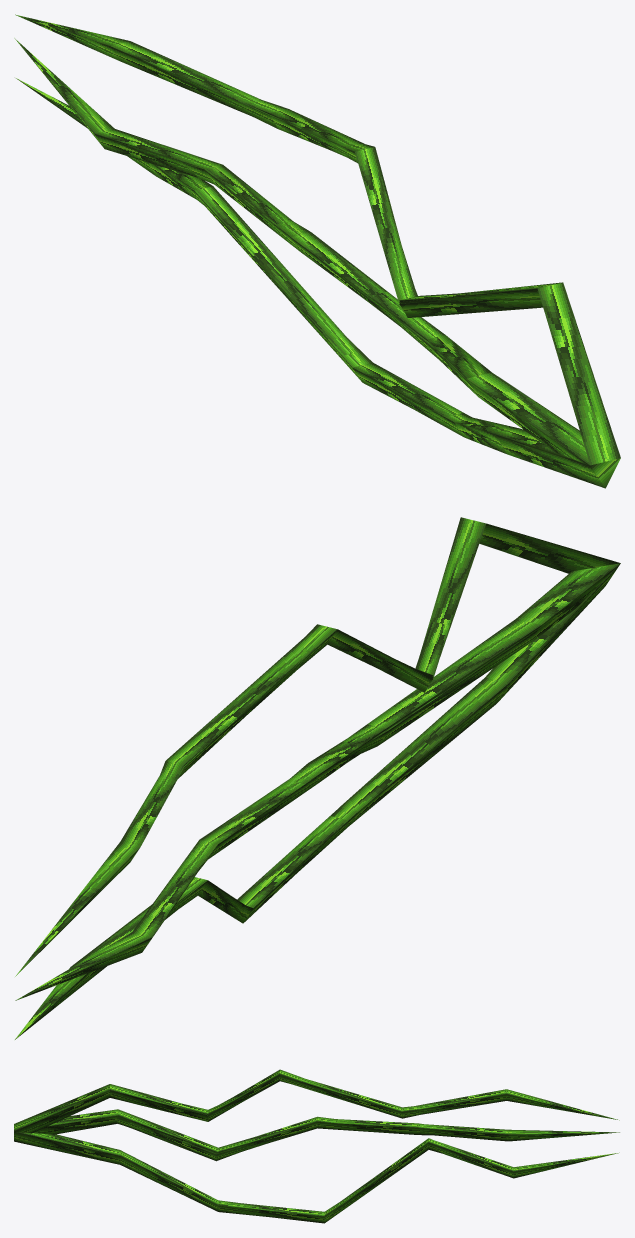
The model's file is 98_efe.gltf.
3 views of the same model, one above another, from view 1: azimuth 30°, elevation 25°; view 2: azimuth 150°, elevation 25°; view 3: azimuth 270°, elevation 25° (orthographic). The views are drawn at different scales.
Size of the model in its own units: 63 by 154 by 600.
Materials: 2 (1 with a texture image).
